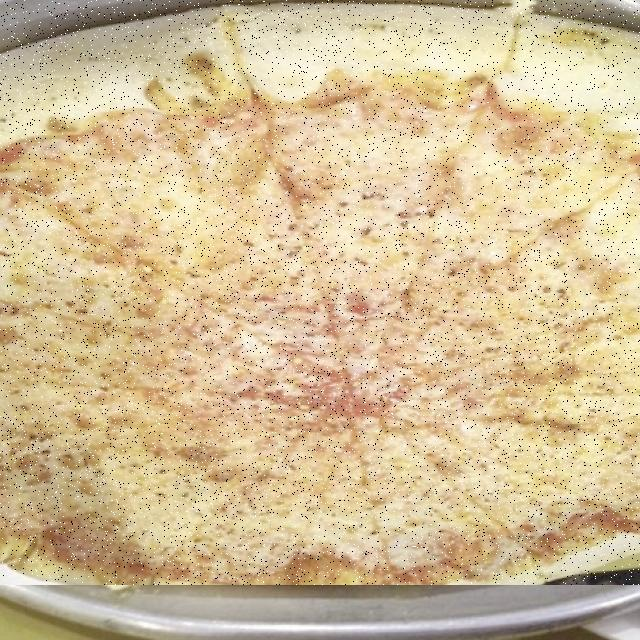Pizza: (0, 0, 640, 585)
